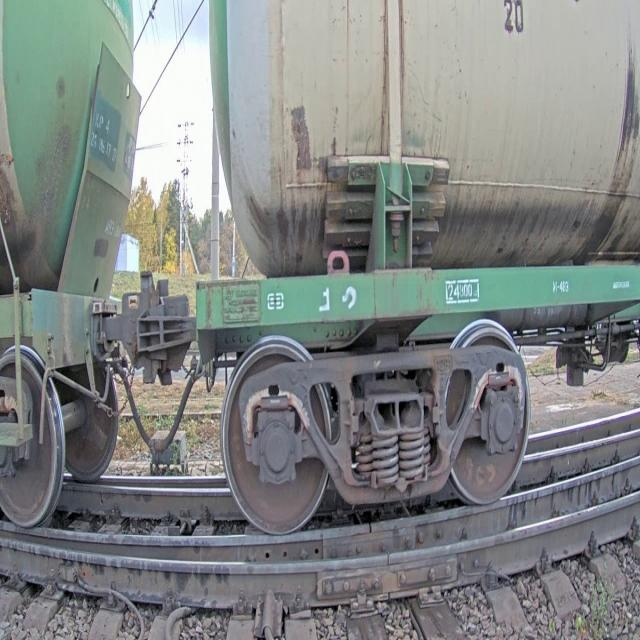tank: (188, 0, 640, 553), (0, 0, 155, 554)
